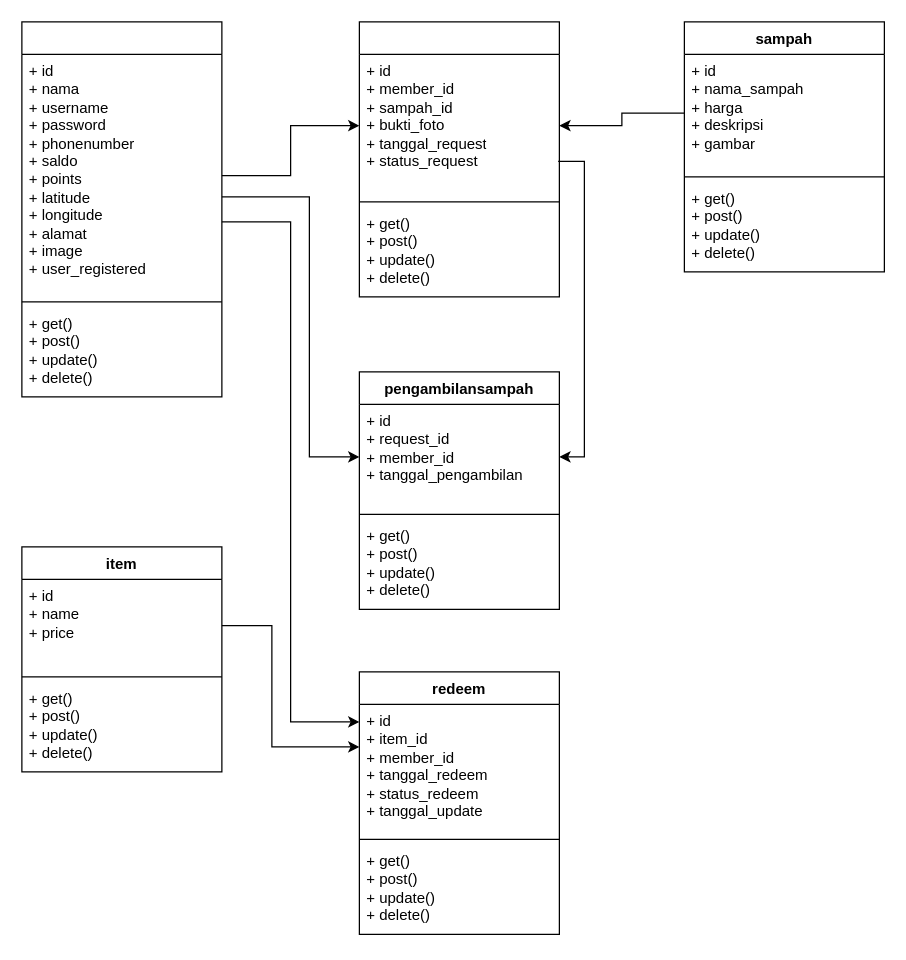
This 906x960 diagram has some shape labels left out. The shapes that lost their labels are listed below. From the top down, each one's box as (x1, y1, x2, y2) in pixels, then its label:
(358, 21, 559, 297): requestpengambilan
(21, 21, 222, 397): members
